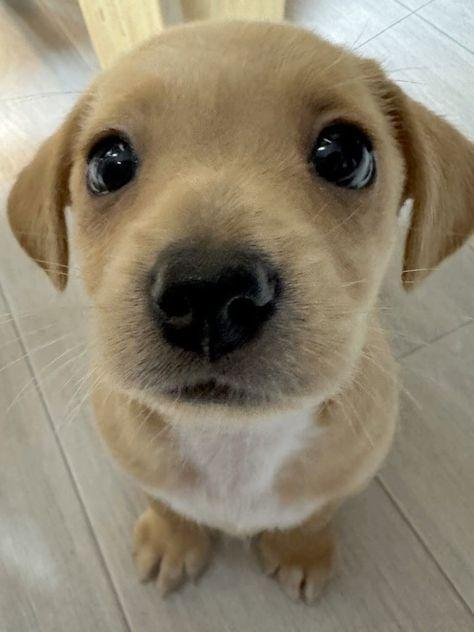puppy-dog: (7, 16, 474, 611)
